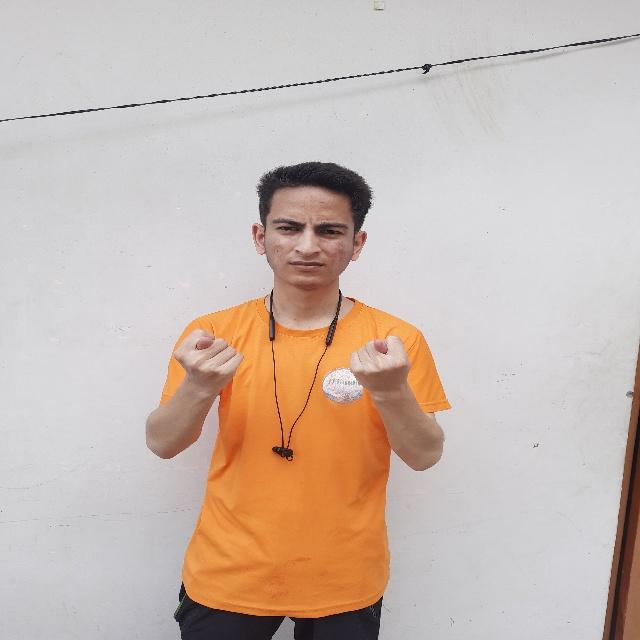Dulya: (168, 319, 245, 406), (346, 328, 422, 404)
